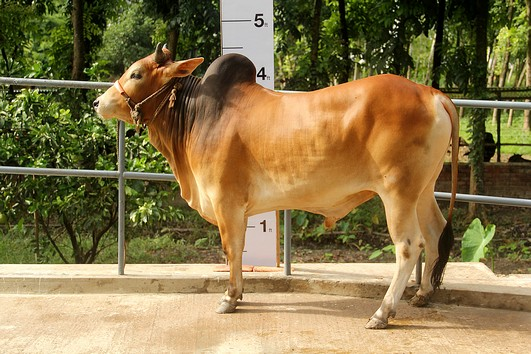cow: (87, 37, 469, 331)
